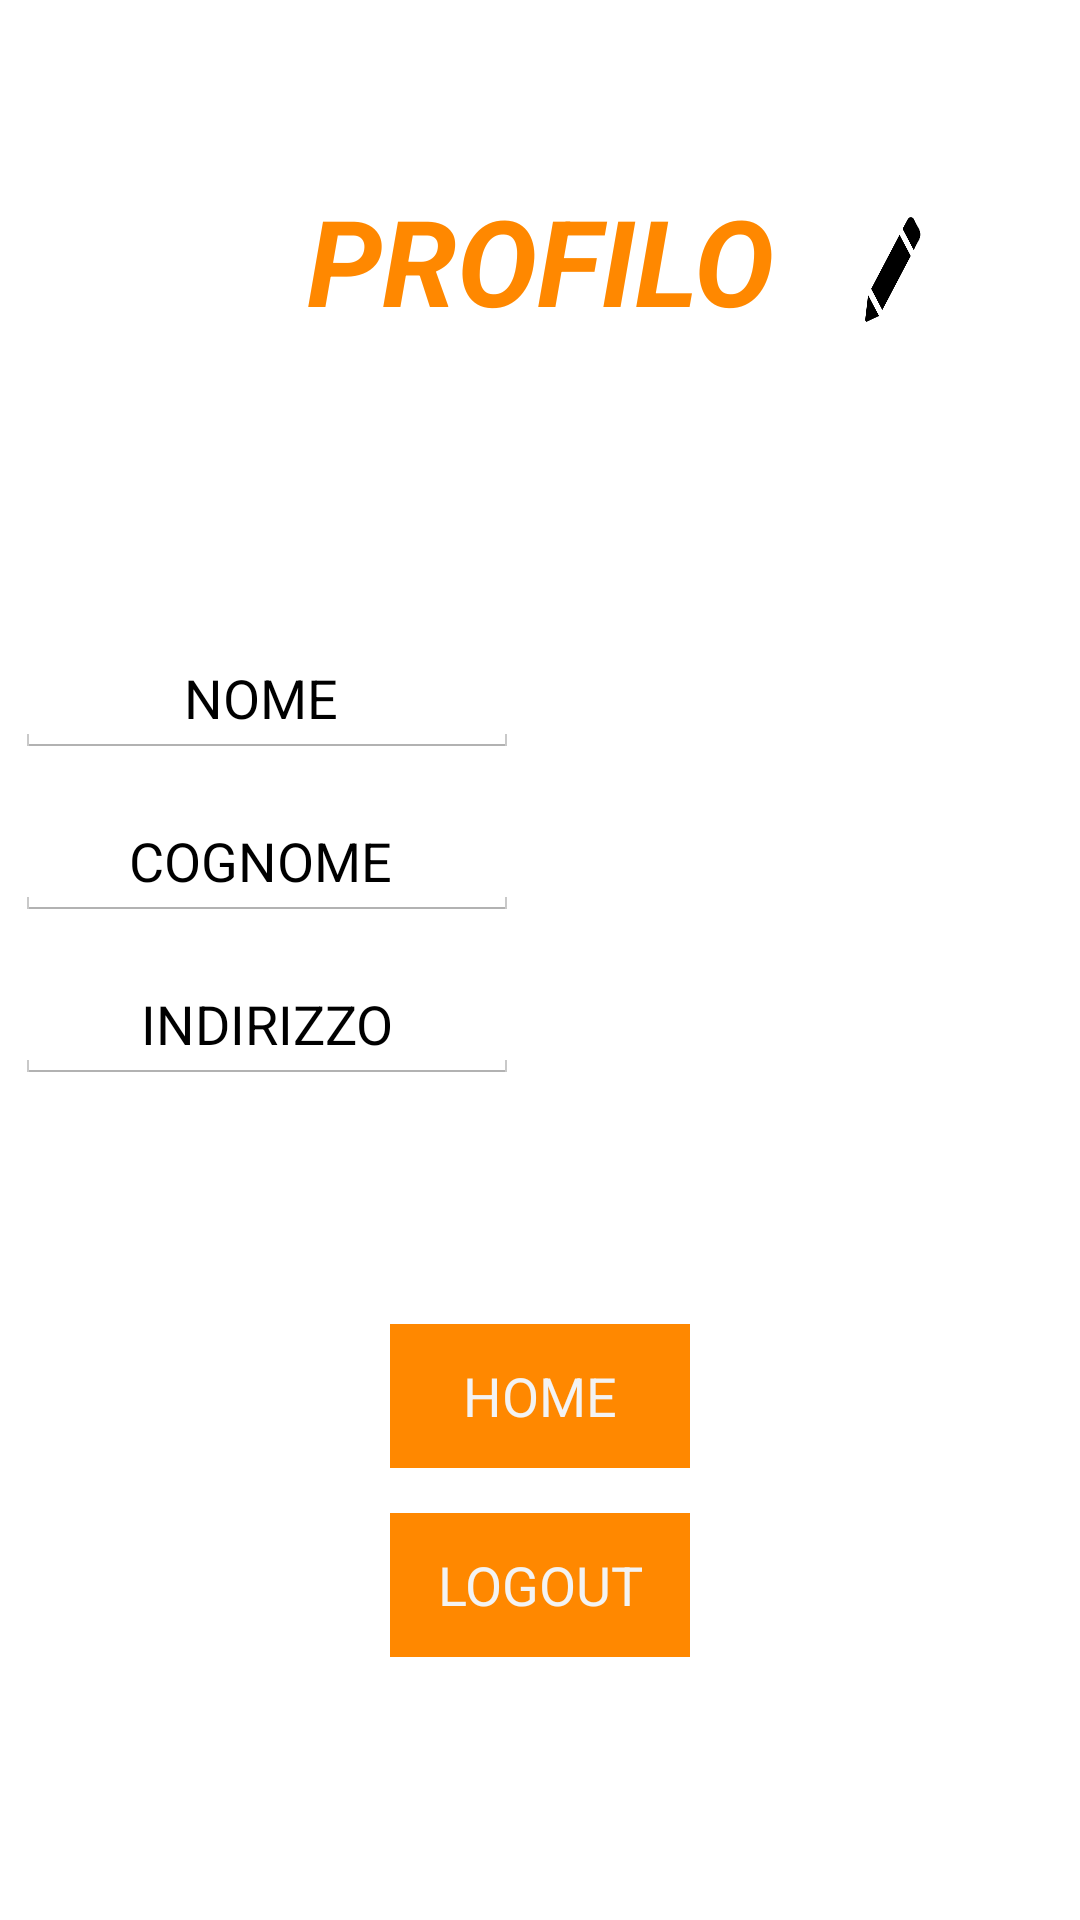

Named icons in this screenshot (1080px×1920px) and their bounding boxes, box(x1, y1, x2, y2):
modifica: box(865, 217, 921, 322)
